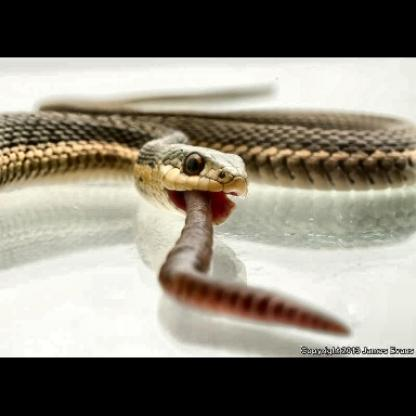Snake: (4, 90, 414, 224)
